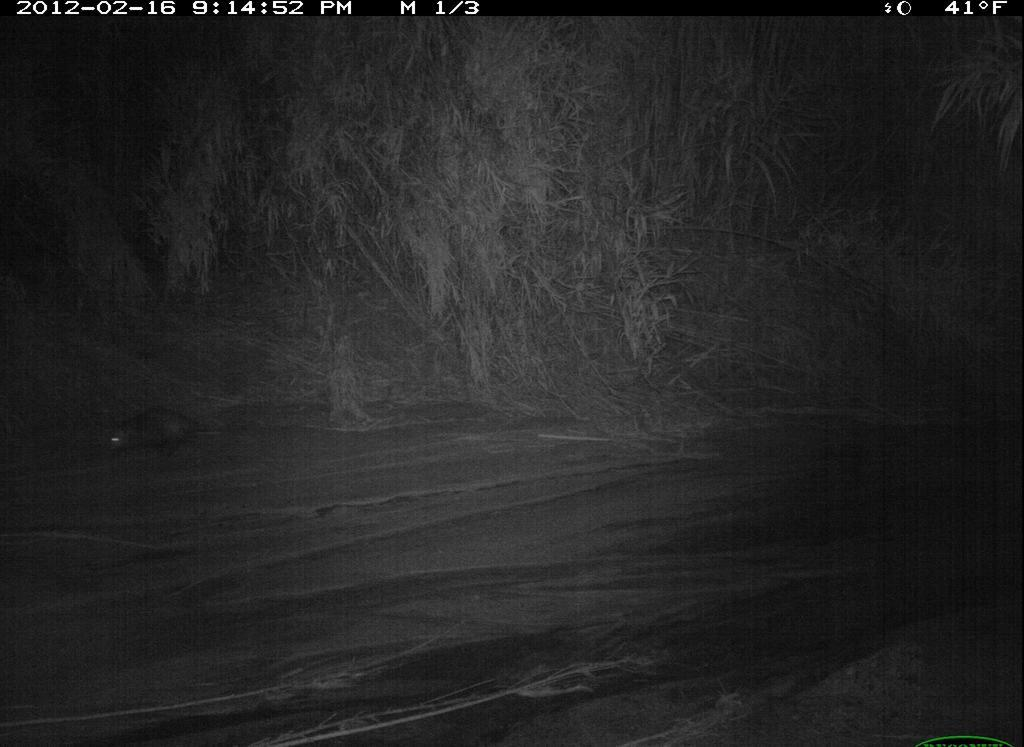opossum: (97, 399, 253, 486)
